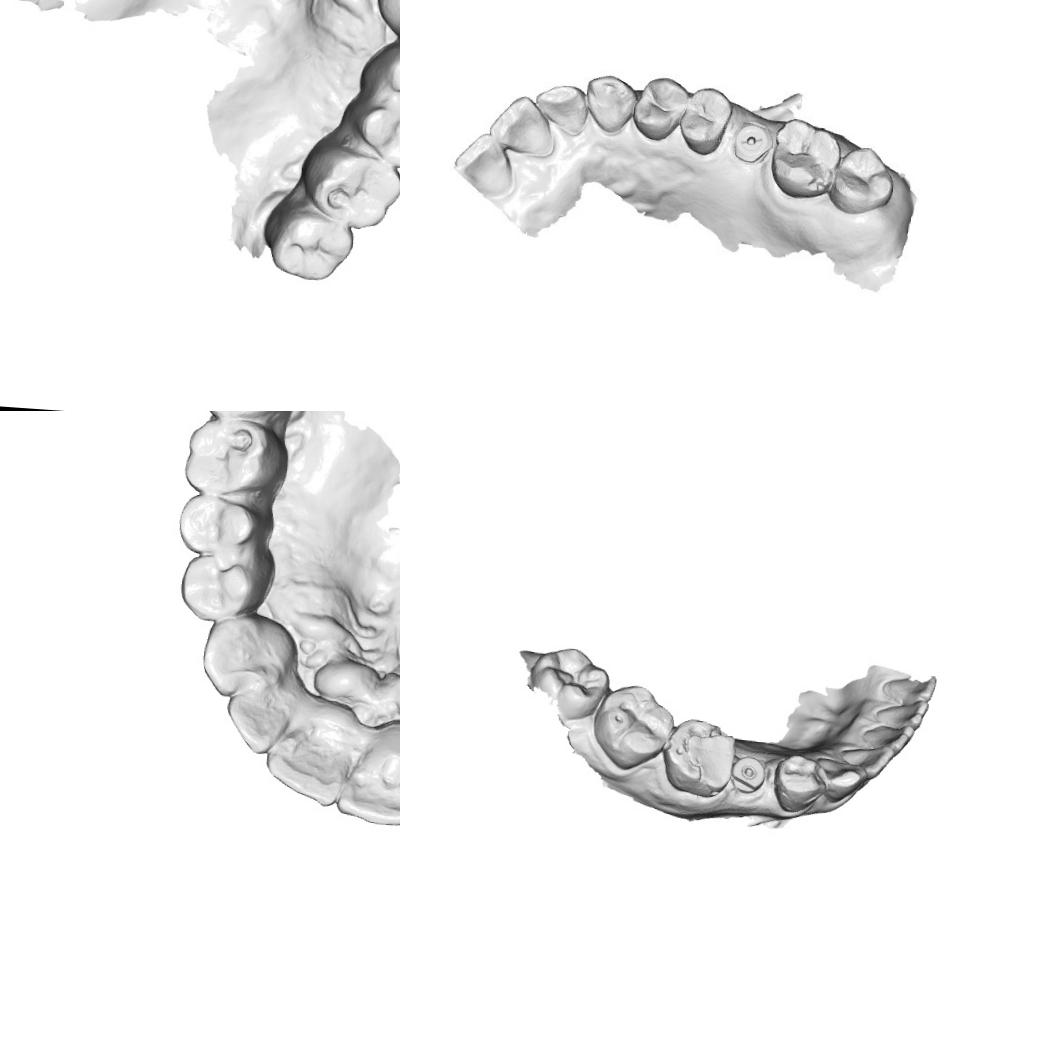canine: (196, 610, 288, 701), (584, 69, 634, 138), (813, 751, 869, 806)
implant: (729, 754, 769, 796)
implant_minus: (730, 122, 774, 162)
incisor: (259, 732, 346, 809), (221, 682, 293, 758), (332, 753, 400, 829), (490, 94, 558, 156), (453, 128, 511, 192), (532, 80, 584, 133), (838, 736, 894, 780), (858, 717, 916, 756), (867, 694, 929, 729), (876, 672, 939, 706)
molar: (179, 416, 285, 502), (588, 680, 678, 772), (306, 144, 400, 232), (265, 210, 357, 286), (526, 642, 612, 722), (661, 714, 737, 800), (768, 120, 842, 198), (827, 141, 893, 216)
premolar: (173, 490, 266, 557), (175, 550, 256, 626), (678, 84, 730, 158), (351, 95, 400, 173), (770, 750, 826, 816), (626, 73, 679, 139), (375, 40, 400, 115)
